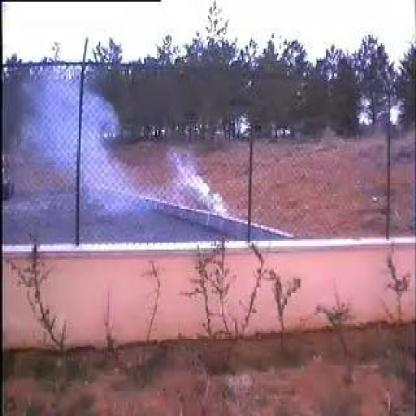-: (22, 76, 226, 218)
